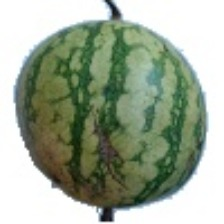watermelon: (62, 15, 206, 183)
